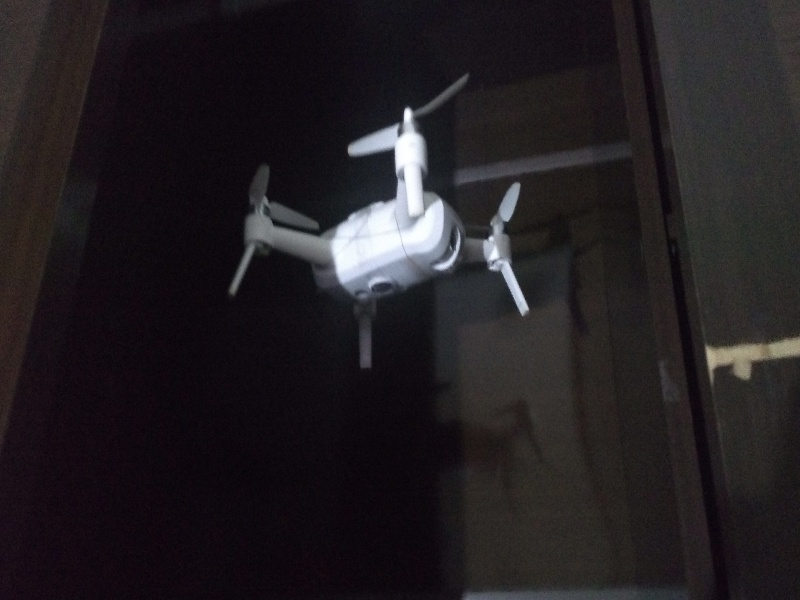drone: (216, 88, 546, 377)
